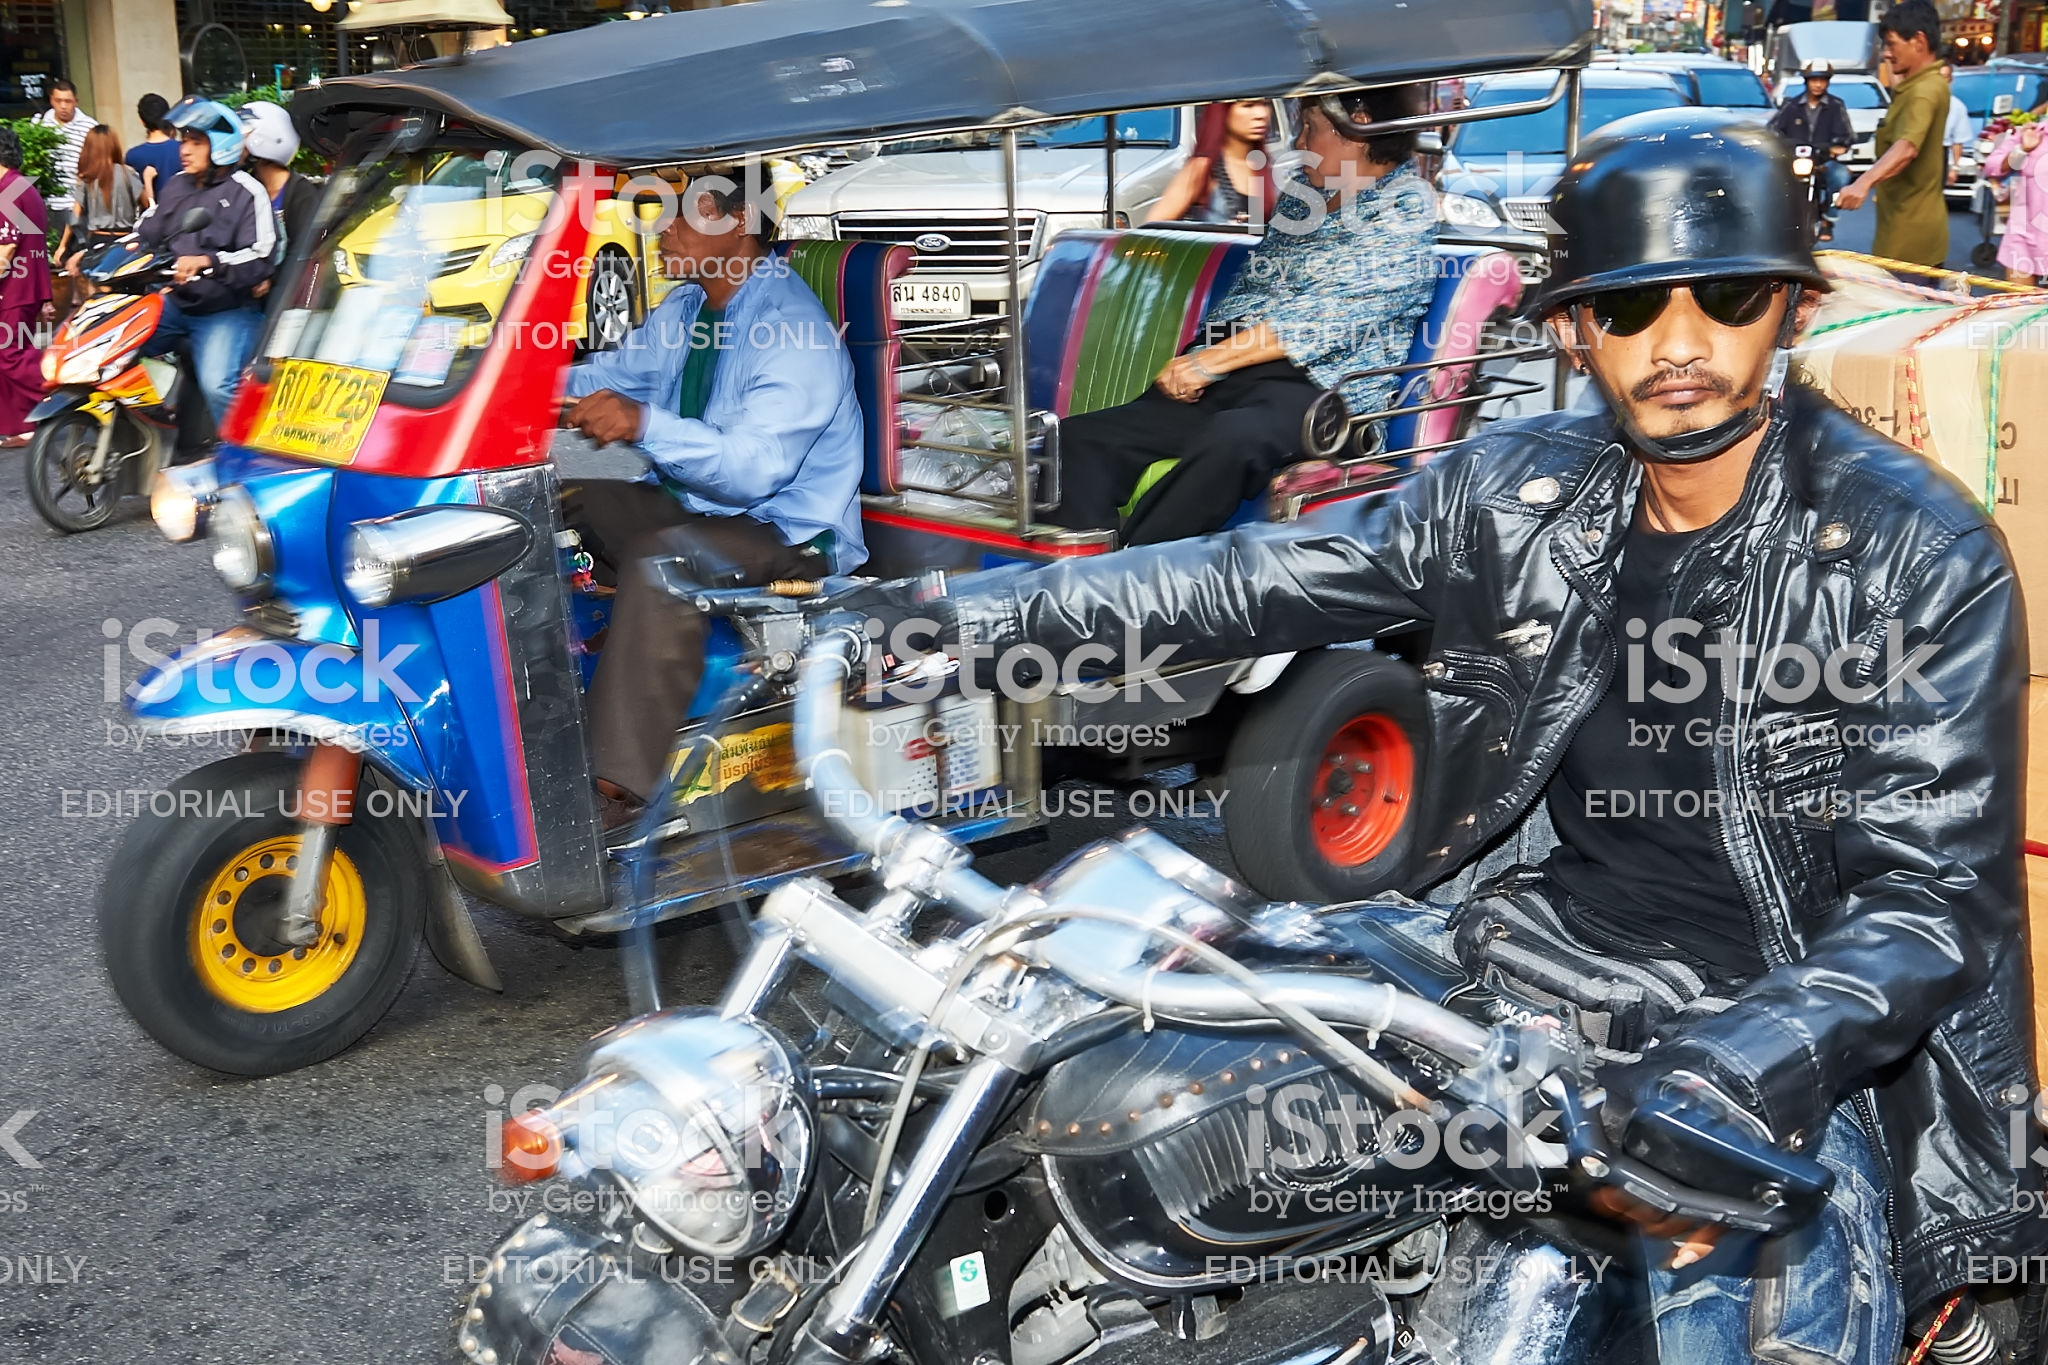helmet: (1559, 104, 1856, 324)
